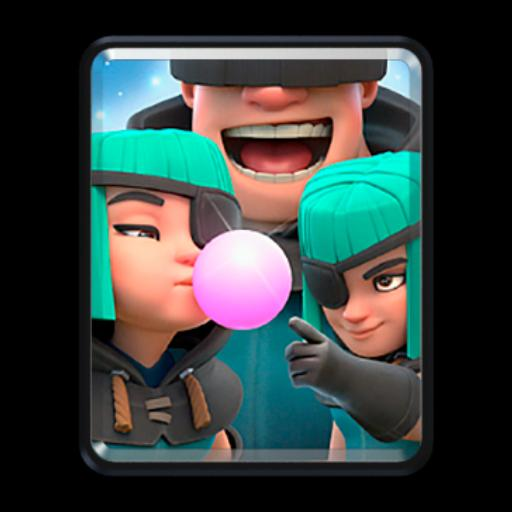rascals: (88, 57, 420, 463)
